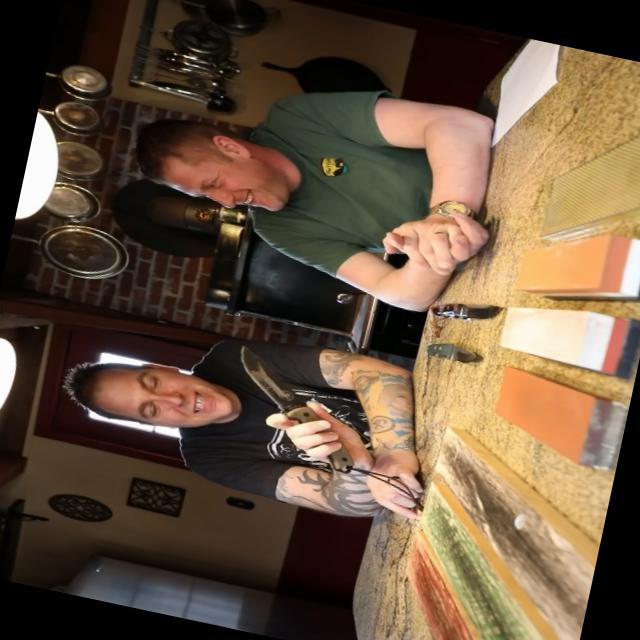knife: (212, 335, 350, 446)
